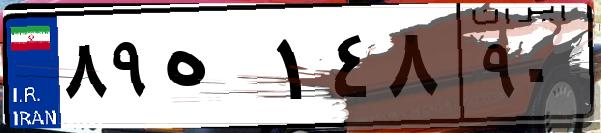0: (525, 38, 570, 115)
1: (270, 28, 330, 110)
4: (330, 28, 385, 110)
8: (385, 28, 445, 110), (57, 26, 110, 100)
9: (475, 38, 525, 113), (110, 28, 158, 98)
ه: (158, 20, 270, 120)
